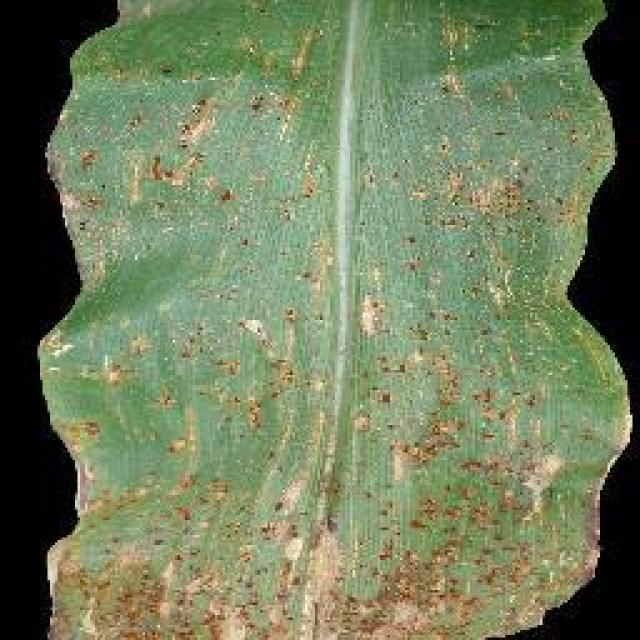Corn Common Rust: (86, 31, 630, 640)
